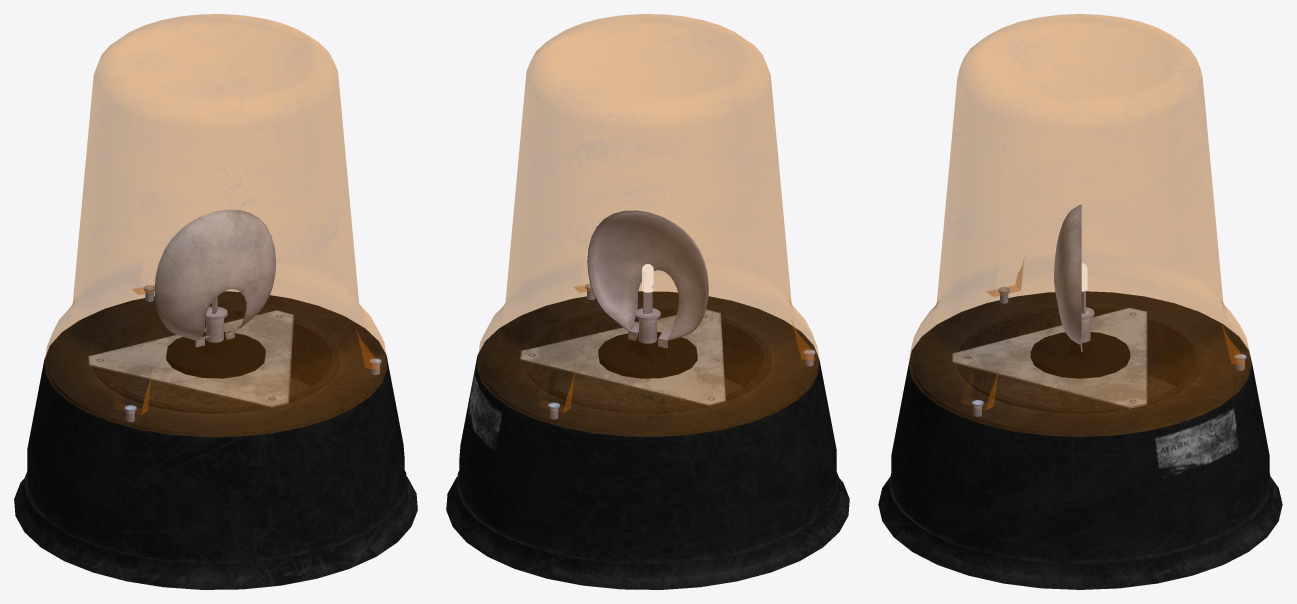
3 renders of one model, left to right at view 1: azimuth 30°, elevation 25°; view 2: azimuth 150°, elevation 25°; view 3: azimuth 270°, elevation 25°, orthographic.
Parts seen in each view (by area): view 1: flasher_8_low, flasher_1_low, flasher_4_low, flasher_2_low, flasher_3_low, flasher_5_low; view 2: flasher_8_low, flasher_1_low, flasher_4_low, flasher_2_low, flasher_3_low, flasher_5_low; view 3: flasher_8_low, flasher_1_low, flasher_2_low, flasher_3_low, flasher_4_low.
Part boxes in pixels (x1=…): flasher_8_low: x1=45, y1=14, x2=386, y2=436; flasher_1_low: x1=14, y1=291, x2=417, y2=589; flasher_4_low: x1=154, y1=209, x2=275, y2=340; flasher_2_low: x1=88, y1=310, x2=293, y2=407; flasher_3_low: x1=166, y1=331, x2=265, y2=378; flasher_5_low: x1=205, y1=306, x2=227, y2=342; flasher_8_low: x1=477, y1=14, x2=818, y2=436; flasher_1_low: x1=446, y1=291, x2=849, y2=589; flasher_4_low: x1=587, y1=210, x2=708, y2=340; flasher_2_low: x1=520, y1=309, x2=725, y2=406; flasher_3_low: x1=598, y1=331, x2=697, y2=378; flasher_5_low: x1=635, y1=308, x2=660, y2=343; flasher_8_low: x1=909, y1=14, x2=1250, y2=436; flasher_1_low: x1=878, y1=291, x2=1282, y2=589; flasher_2_low: x1=952, y1=307, x2=1147, y2=408; flasher_3_low: x1=1030, y1=332, x2=1130, y2=378; flasher_4_low: x1=1054, y1=204, x2=1081, y2=344.
Size of what is drawn, in the model's own units: 0.035 by 0.0427 by 0.035.
Materials: 3 (3 with a texture image).
